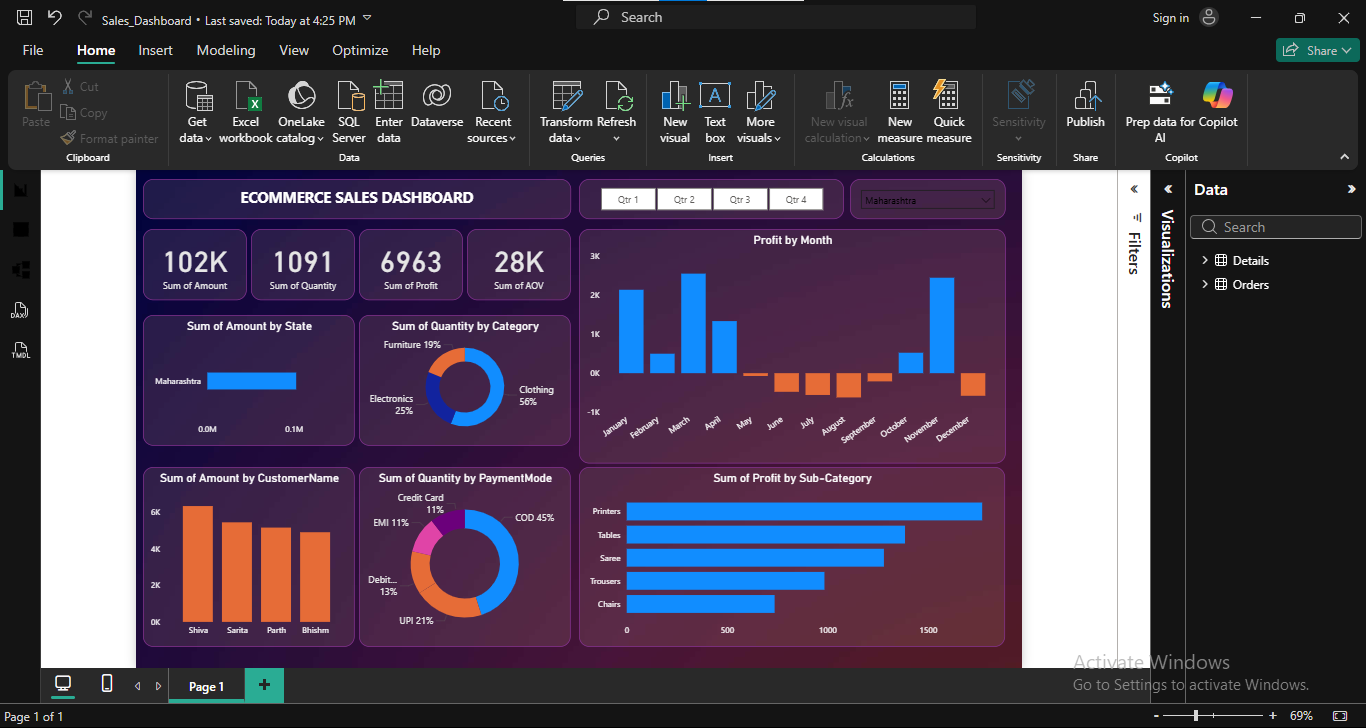

What the dashboard file says about the page in this screenshot:
{"tool":"powerbi","page":{"name":"Page 1","canvas":[1280,720],"ordinal":0},"visuals":[{"type":"textbox","box":[9.9,13.2,618.6,57.6],"z":0},{"type":"columnChart","title":"Profit by Month","fields":{"Category":["Orders.Order Date.Variation.Date Hierarchy.Month"],"Y":["Sum(Details.Profit)"]},"box":[640,85.6,617,338.9],"z":1000},{"type":"barChart","fields":{"Category":["Details.Sub-Category"],"Y":["Sum(Details.Profit)"]},"box":[640.5,429.4,615.9,260.2],"z":2000},{"type":"donutChart","fields":{"Category":["Details.Category"],"Y":["Sum(Details.Quantity)"]},"box":[322.5,208.9,306,189.2],"z":3000},{"type":"donutChart","fields":{"Y":["Sum(Details.Quantity)"],"Category":["Details.PaymentMode"]},"box":[322.5,429.4,306,259.9],"z":4000},{"type":"card","fields":{"Values":["Sum(Details.Amount)"]},"box":[10.1,85.3,150.4,102.7],"z":5000},{"type":"card","fields":{"Values":["Sum(Details.Quantity)"]},"box":[166.3,85.3,150.4,102.7],"z":6000},{"type":"card","fields":{"Values":["Sum(Details.Profit)"]},"box":[322.4,85.3,150.4,102.7],"z":7000},{"type":"card","fields":{"Values":["Sum(Details.AOV)"]},"box":[478.6,85.3,150.4,102.7],"z":8000},{"type":"barChart","fields":{"Category":["Orders.State"],"Y":["Sum(Details.Amount)"]},"box":[9.9,208.9,306,189.2],"z":9000},{"type":"columnChart","fields":{"Category":["Orders.CustomerName"],"Y":["Sum(Details.Amount)"]},"box":[9.9,429.4,306,259.9],"z":10000},{"type":"slicer","fields":{"Values":["Orders.Order Date.Variation.Date Hierarchy.Quarter"]},"box":[640,13.2,383.3,57.6],"z":11000},{"type":"slicer","fields":{"Values":["Orders.State"]},"box":[1031.6,13.2,225.4,57.6],"z":12000}]}

Visuals, with their boxes on the page's 1280x720 design canvas (x1, y1, x2, y2). These are canvas units, not pixel positions in the 1366x728 screenshot, which may show the page scaled, cropped or inside an application window:
textbox: bbox=(10, 13, 628, 71)
"Profit by Month" columnChart: bbox=(640, 86, 1257, 424)
barChart - Details.Sub-Category x Sum(Details.Profit): bbox=(640, 429, 1256, 690)
donutChart - Details.Category x Sum(Details.Quantity): bbox=(322, 209, 628, 398)
donutChart - Sum(Details.Quantity) x Details.PaymentMode: bbox=(322, 429, 628, 689)
card - Sum(Details.Amount): bbox=(10, 85, 160, 188)
card - Sum(Details.Quantity): bbox=(166, 85, 317, 188)
card - Sum(Details.Profit): bbox=(322, 85, 473, 188)
card - Sum(Details.AOV): bbox=(479, 85, 629, 188)
barChart - Orders.State x Sum(Details.Amount): bbox=(10, 209, 316, 398)
columnChart - Orders.CustomerName x Sum(Details.Amount): bbox=(10, 429, 316, 689)
slicer - Orders.Order Date.Variation.Date Hierarchy.Quarter: bbox=(640, 13, 1023, 71)
slicer - Orders.State: bbox=(1032, 13, 1257, 71)
